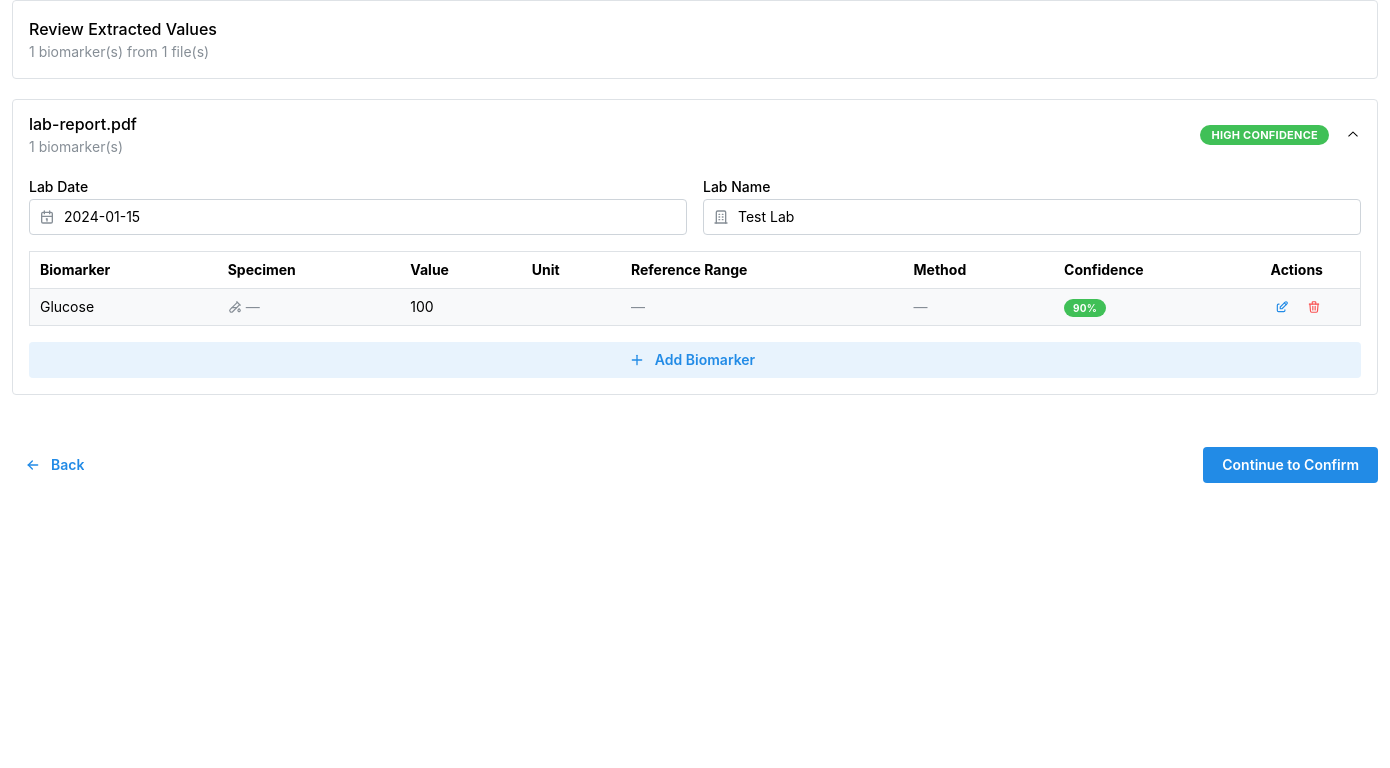
it: ReviewStep › Validation › shows validation error when biomarker has no unit (for non-unitless biomarkers)
Step 1. Click the button "Continue to Confirm" → (1291, 465), box [1203, 447, 1378, 483]
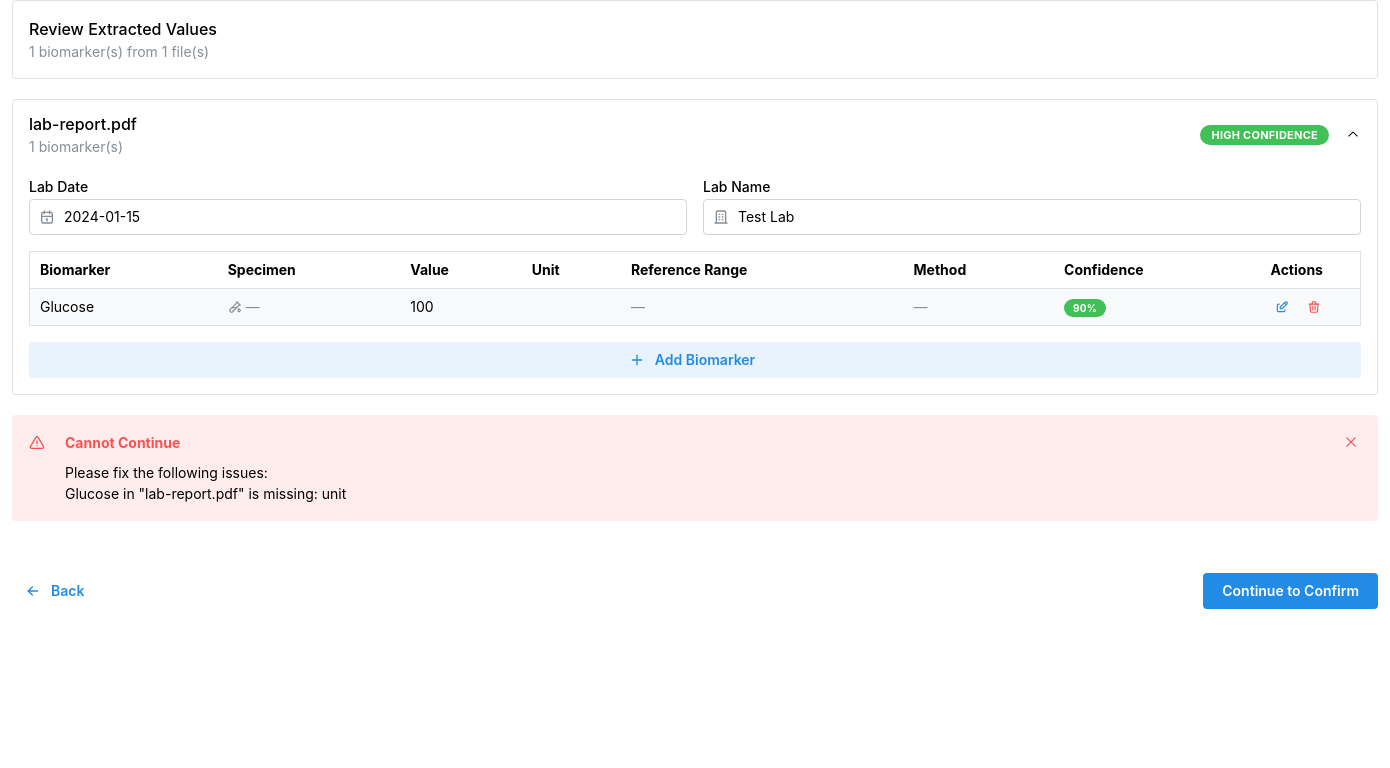
Expected: the text "Cannot Continue" is shown, [65, 432, 180, 453]
Expected: the text "missing: unit" is shown, [65, 464, 346, 502]
